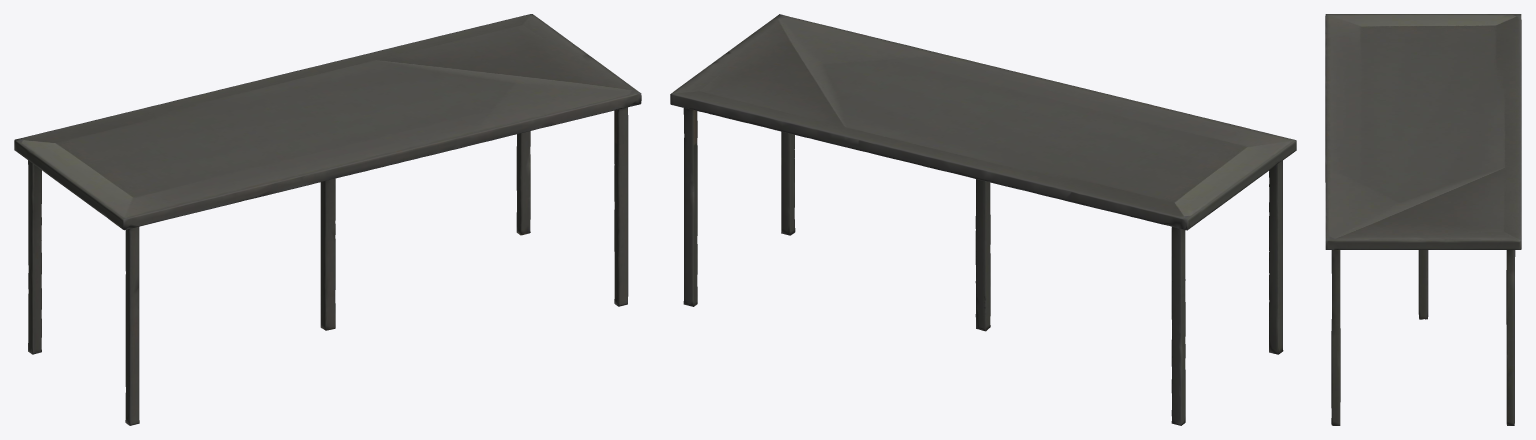
File: Black_Minimalist_Tabl_0421142901_texture.glb
The picture shows the model from 3 angles, left to right: view 1: azimuth 30°, elevation 25°; view 2: azimuth 150°, elevation 25°; view 3: azimuth 270°, elevation 25°; orthographic projection. The views are drawn at different scales.
Parts seen in each view (by area): view 1: Mesh1; view 2: Mesh1; view 3: Mesh1.
Boxes of the visible parts, x1,y1,x2,y2 form: Mesh1: (14,14,641,425); Mesh1: (670,14,1296,425); Mesh1: (1325,14,1521,425).
Size of the model in its own units: 2 by 0.7845 by 0.7325.
1 material, 1 textured.
